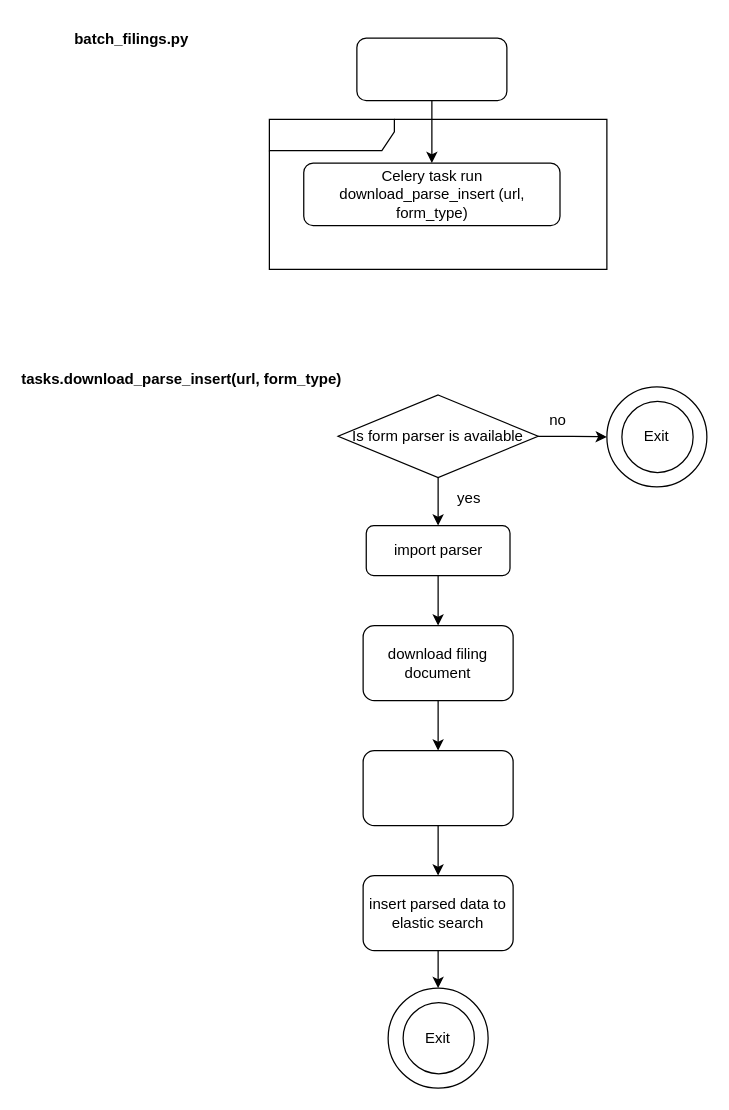
Image size: 729x1110. Some labels were removed from this diagram. The shapes that lost their labels are listed below. From the top down, each one's centre as x and y in pixels, then its label:
At [431,69]: "given form type, get urls from MySQL".
At [437,193]: "iterate all urls".
At [437,787]: "parse document to json format".
